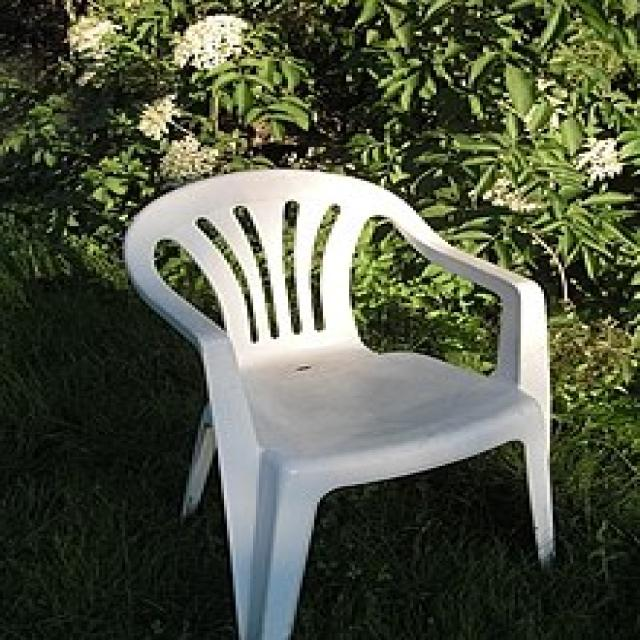chair: (99, 129, 631, 640)
